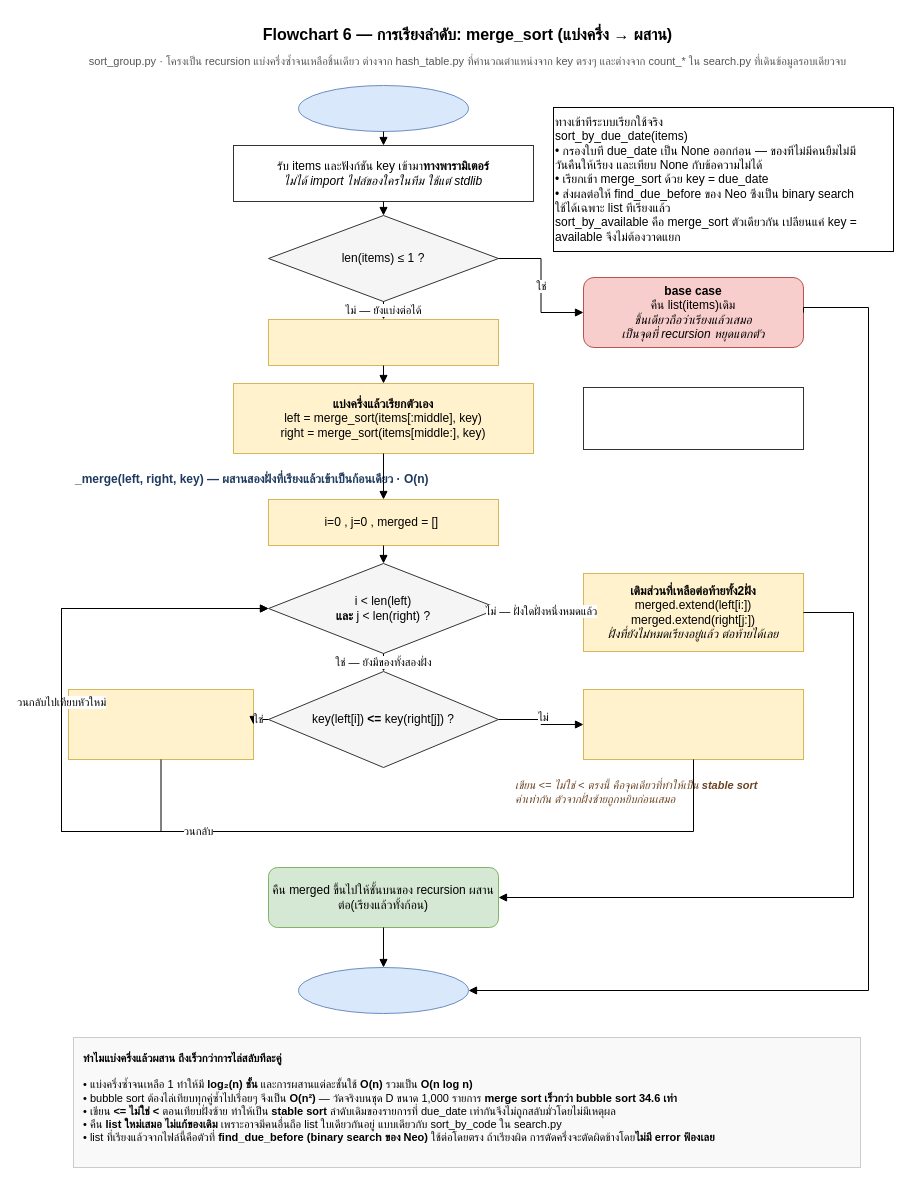
Image size: 911x1185. Some labels were removed from this diagram. The shapes that lost their labels are listed below. From the top down, each one's centre as x and y in pixels, then its label:
At pixel 383 108: "เริ่ม".
At pixel 383 342: "middle = len(items) // 2".
At pixel 693 418: "ลึกประมาณ log₂(n) ชั้น 1,000 รายการ ≈ 10 ชั้น ไม่เสี่ยง stack overflow".
At pixel 161 724: "หยิบฝั่งซ้าย merged.append(left[i]) i += 1".
At pixel 693 724: "หยิบฝั่งขวา merged.append(right[j]) j += 1".
At pixel 383 990: "จบ".
